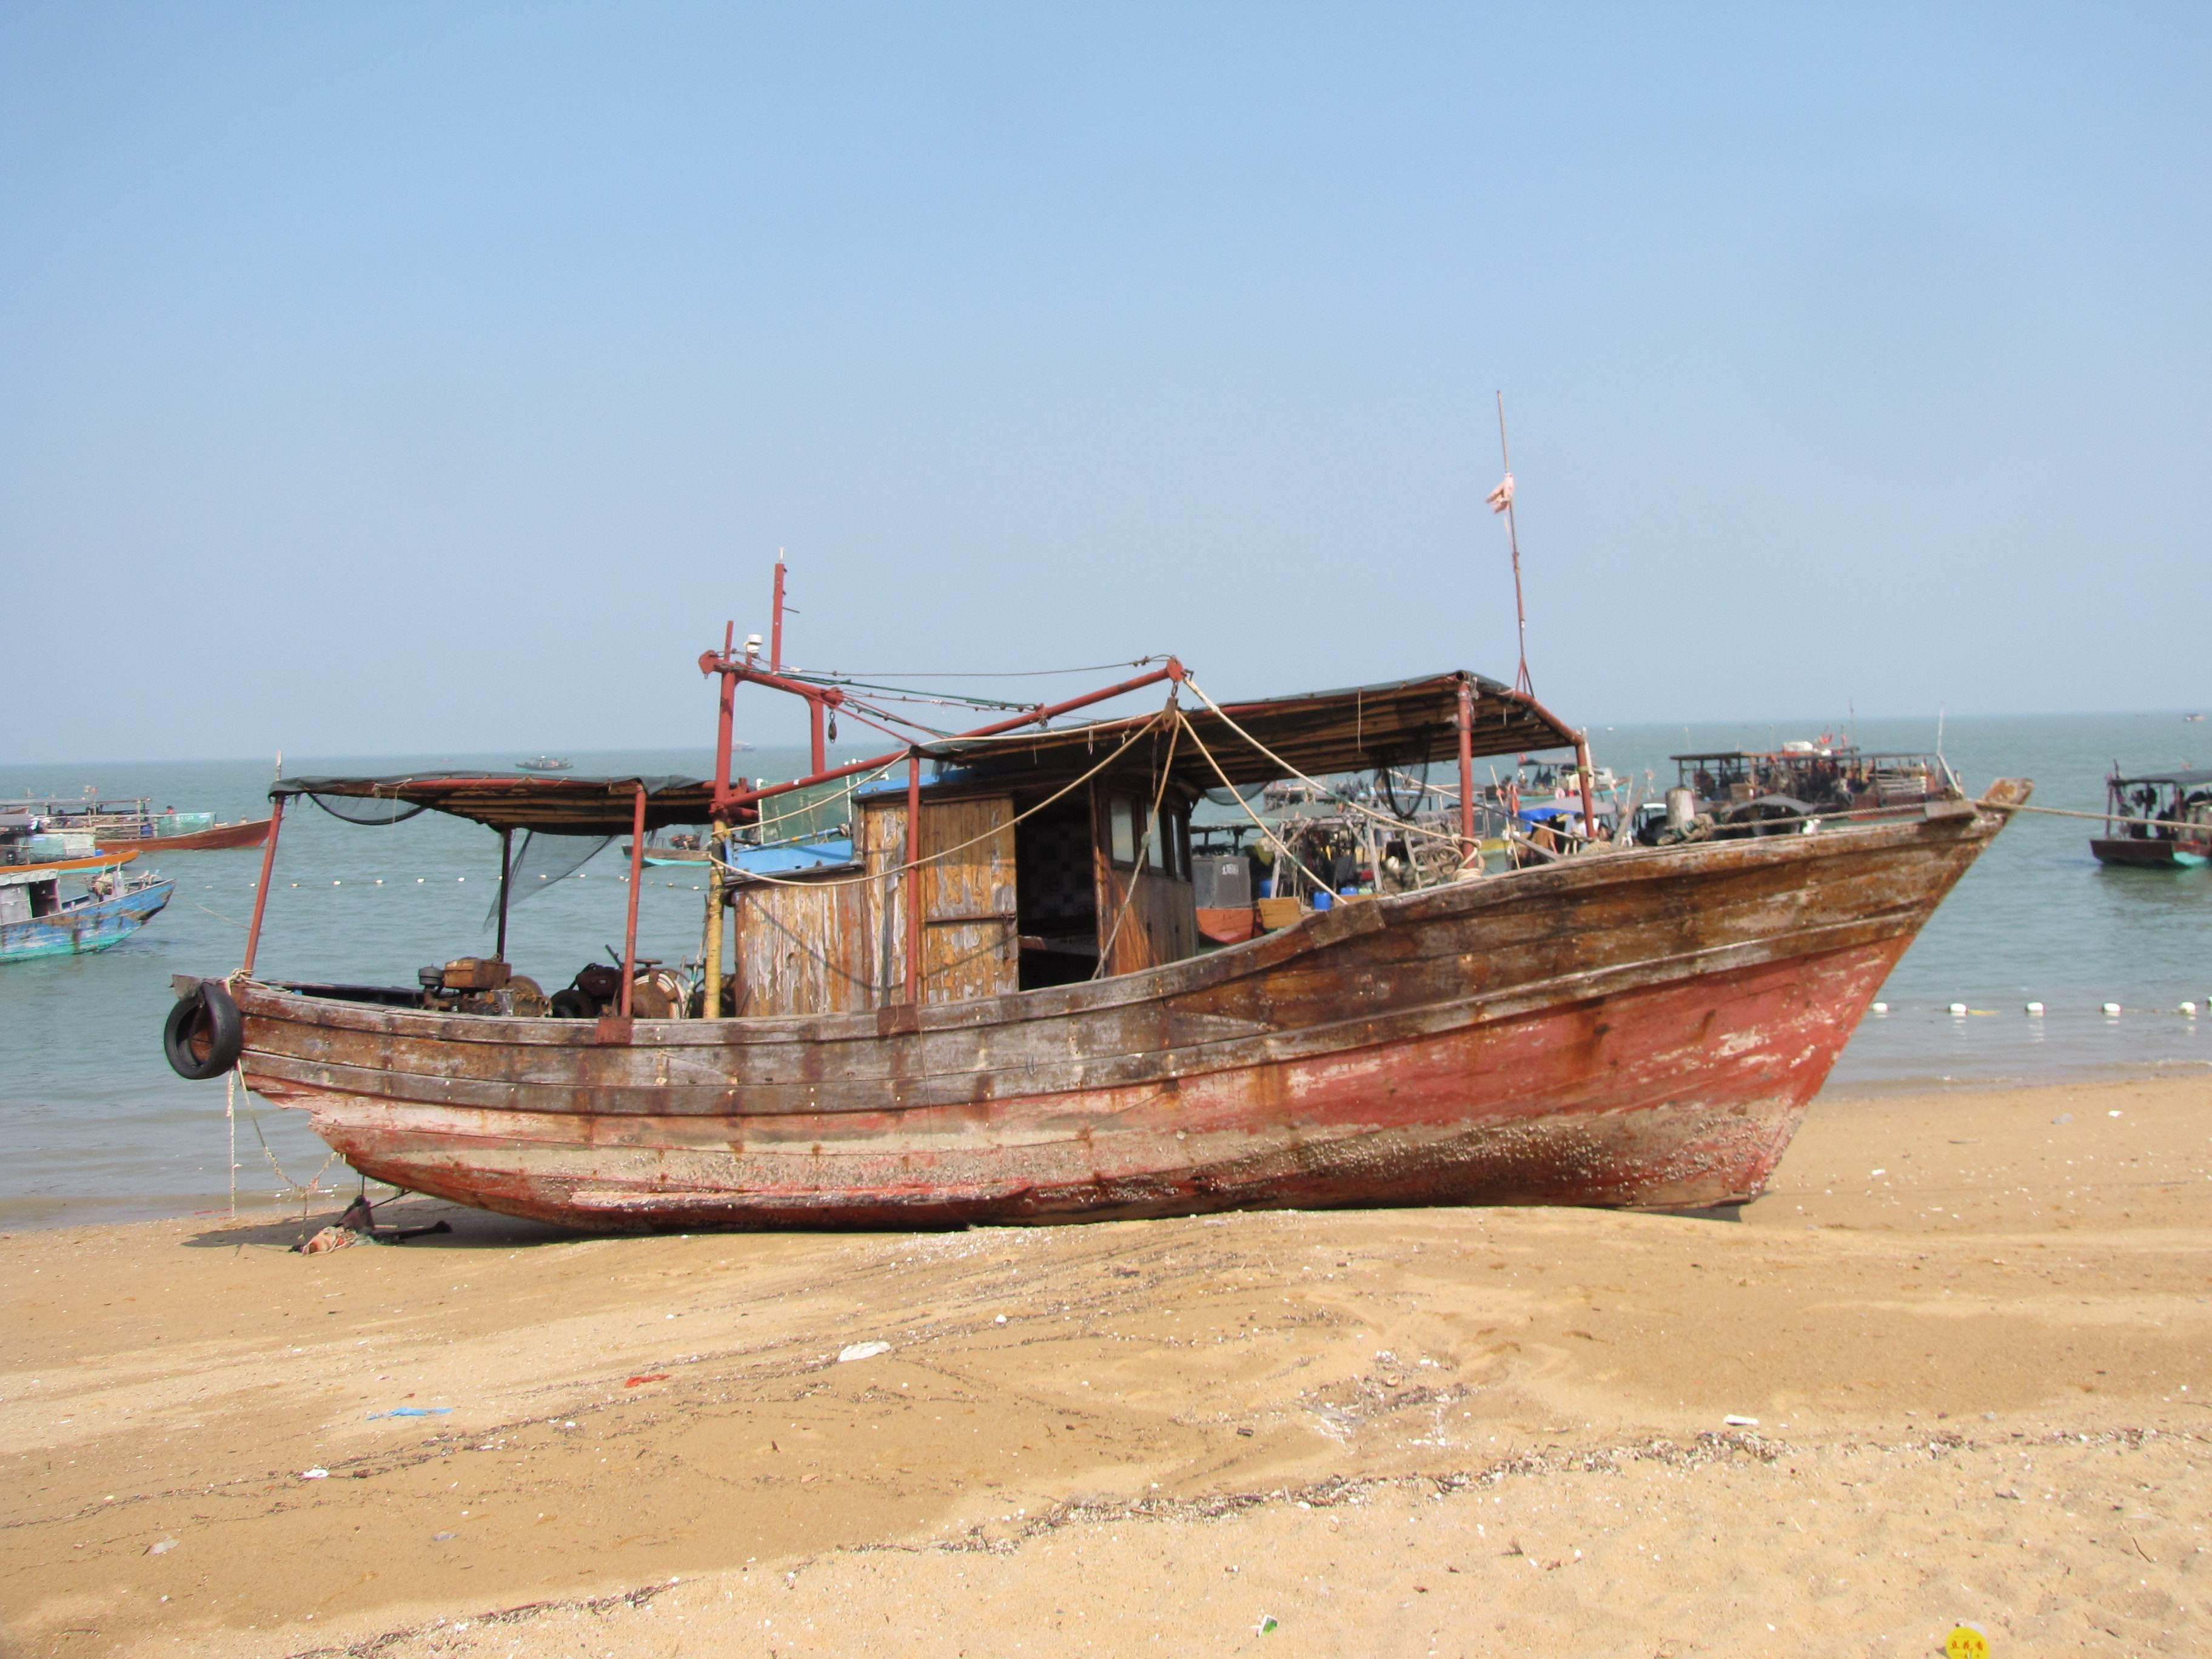otherboat: (186, 525, 2057, 1236)
